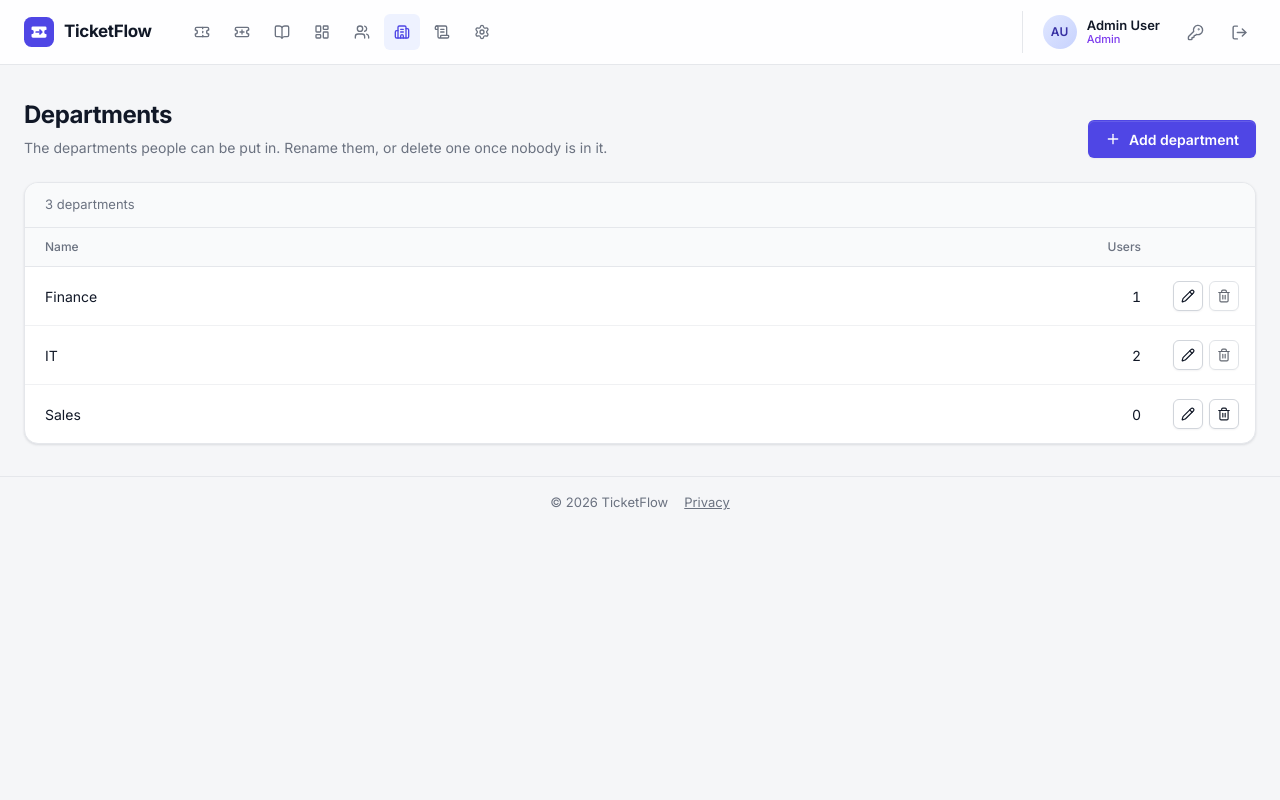
Departments page › delete › asks first, then removes an empty department
Check: the table is shown, box [25, 228, 1255, 443]
Click the button named "Delete Sales" at (1224, 414), box [1209, 399, 1239, 429]
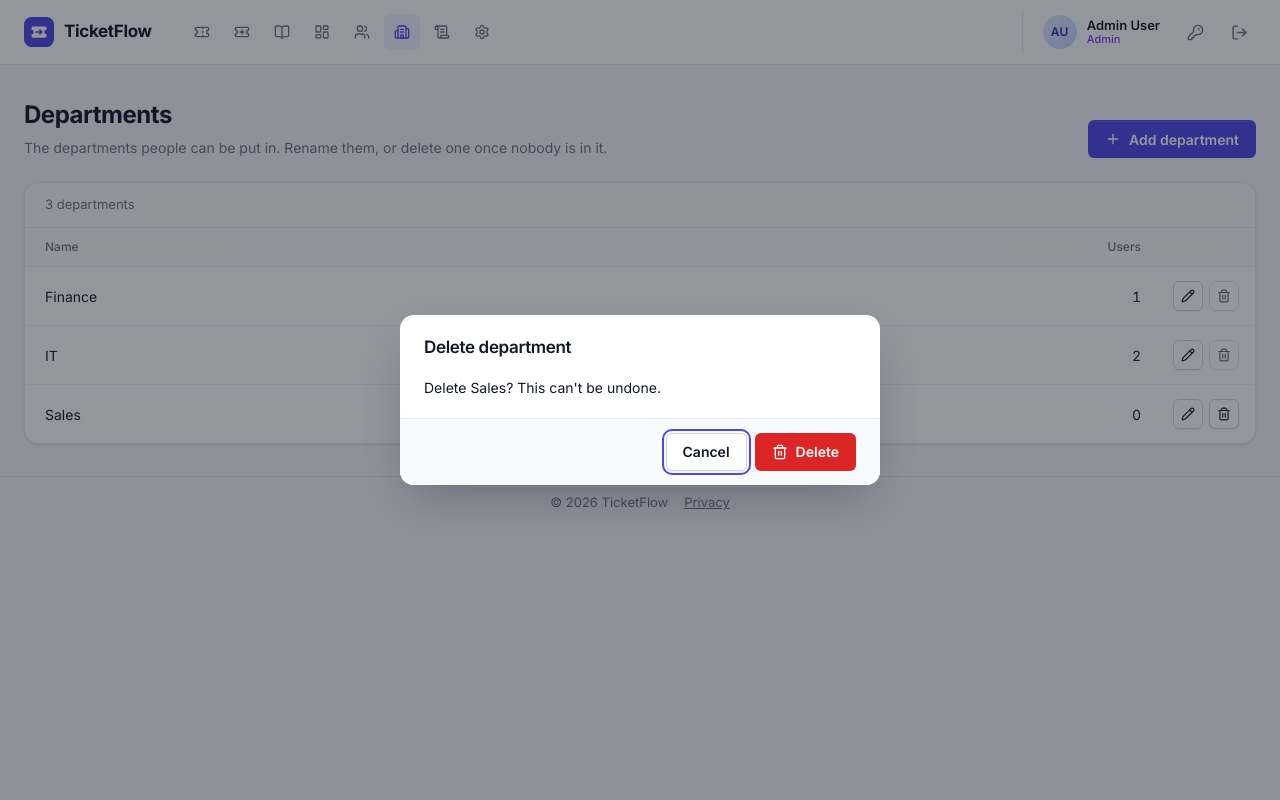
Check: the dialog "Delete department" shows "Delete Sales? This can't be undone.", box [400, 315, 880, 485]
Click the button "Delete" at (805, 452), box [755, 433, 856, 471]
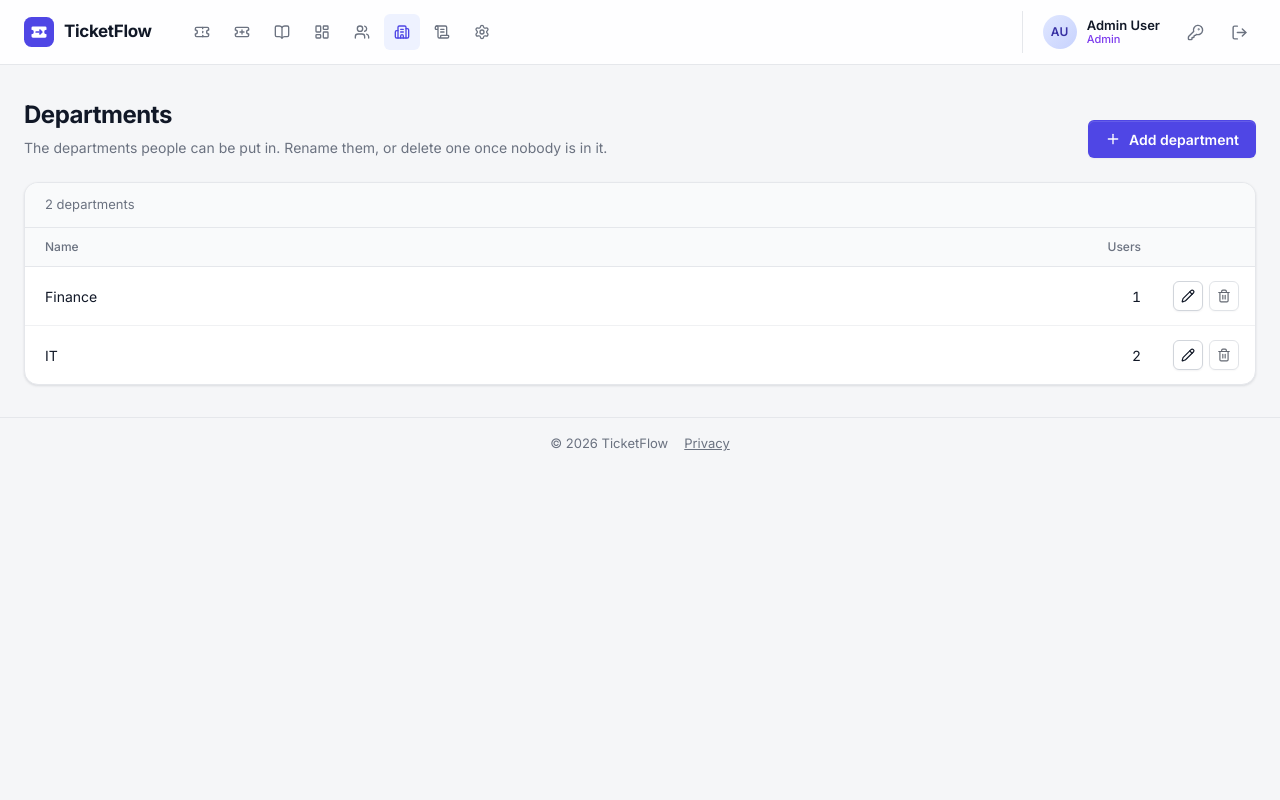
Check: the dialog is gone
